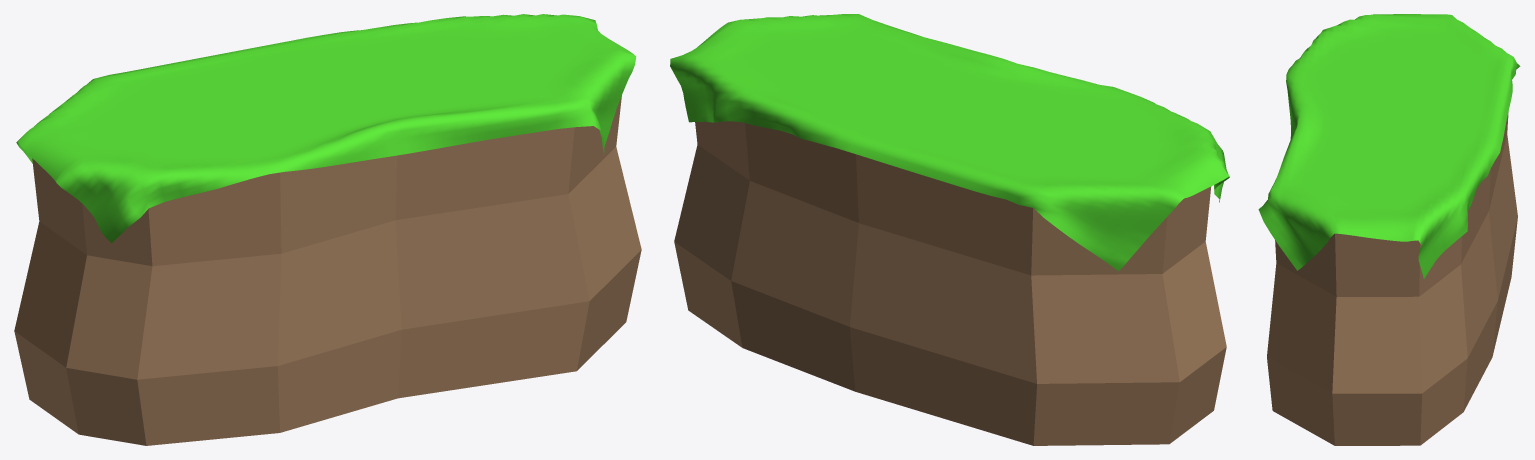
Rendered from Bloc02.fbx.
The picture shows the model from 3 angles, left to right: view 1: azimuth 30°, elevation 25°; view 2: azimuth 150°, elevation 25°; view 3: azimuth 270°, elevation 25°; orthographic projection. The views are drawn at different scales.
Parts seen in each view (by area): view 1: Bloc02; view 2: Bloc02; view 3: Bloc02.
Part boxes in pixels (<box>): Bloc02: <box>14,14,641,445</box>; Bloc02: <box>670,14,1229,445</box>; Bloc02: <box>1258,14,1520,445</box>.
Size of the model in its own units: 1062 by 496 by 519.
